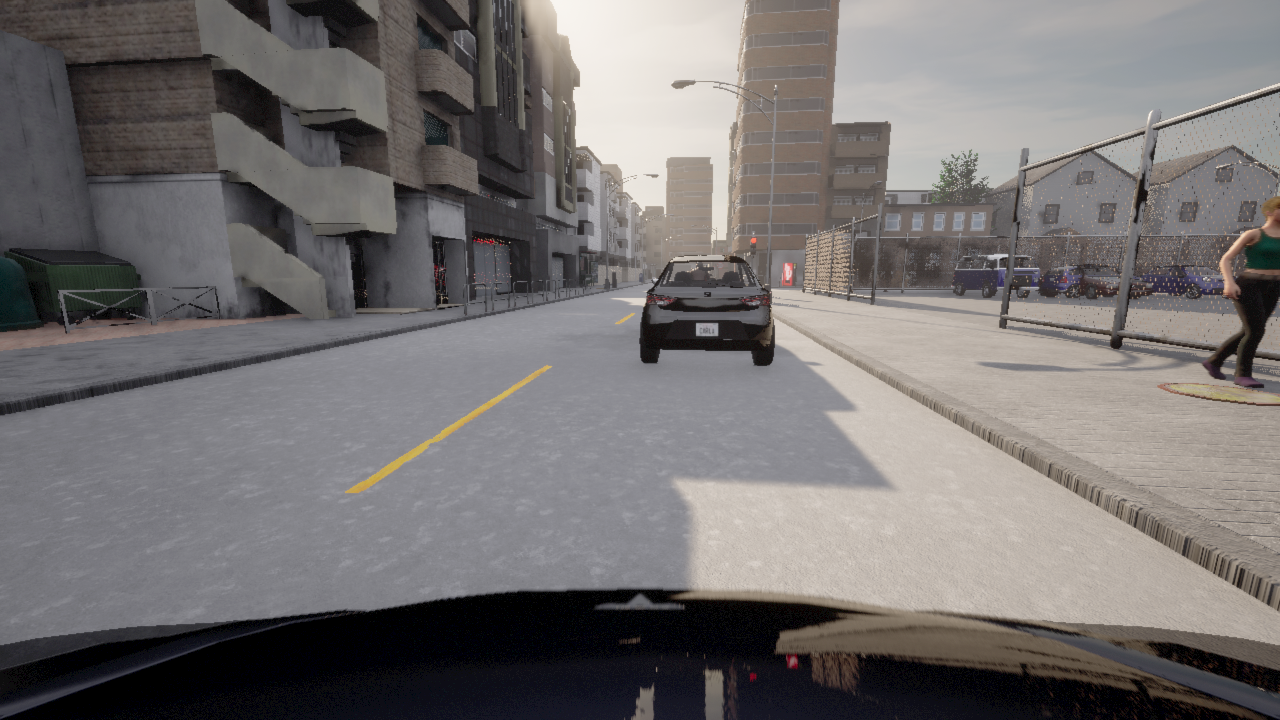cyclist: (0, 588, 1279, 719), (640, 255, 774, 365), (951, 254, 1039, 297), (1040, 264, 1144, 297), (1140, 265, 1236, 298), (1035, 272, 1153, 298)
pedestrian: (1201, 196, 1279, 387), (884, 262, 891, 291), (1134, 260, 1141, 276)
